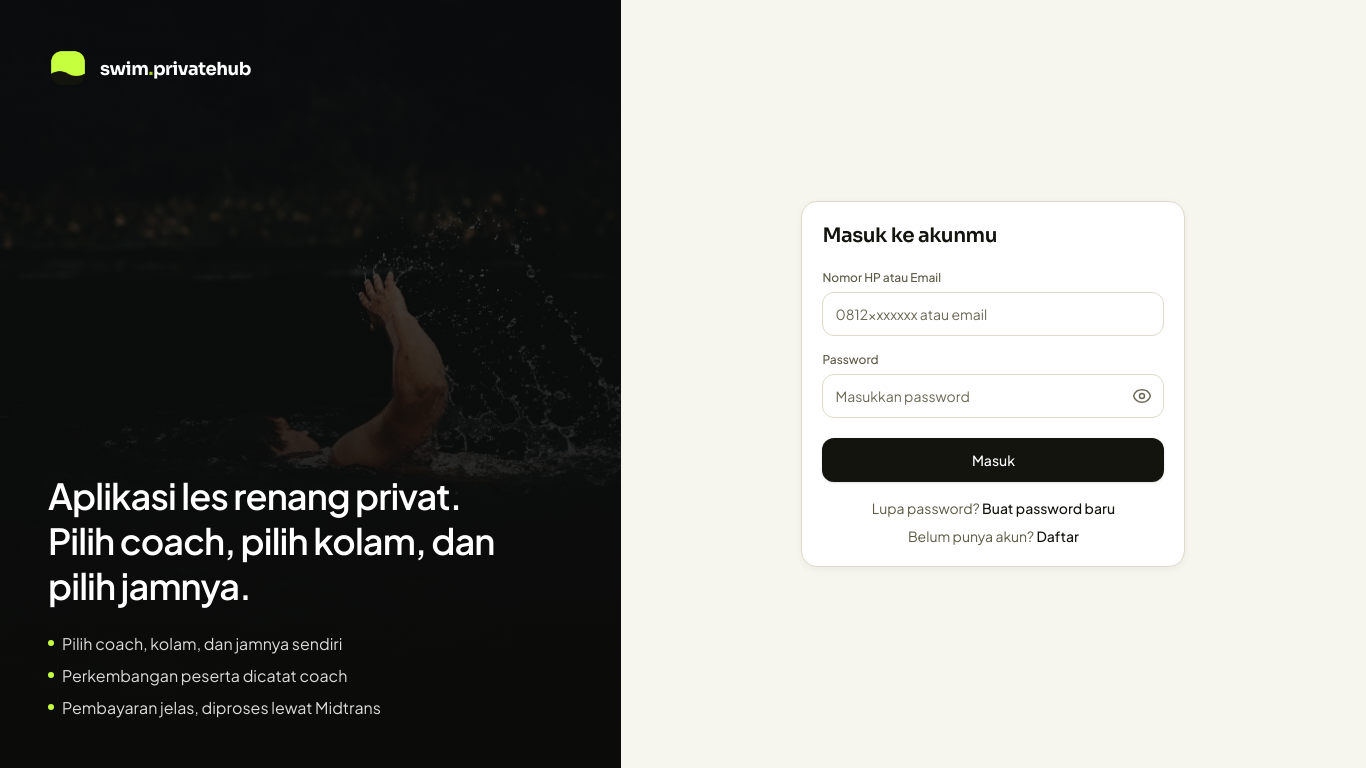
Scenario: LoginForm 2FA › tanpa 2FA: salah password -> pesan umum, kolom kode tidak muncul
Type "081200000001" into the field labelled "Nomor HP atau Email" at (993, 314), box [822,292,1164,336]
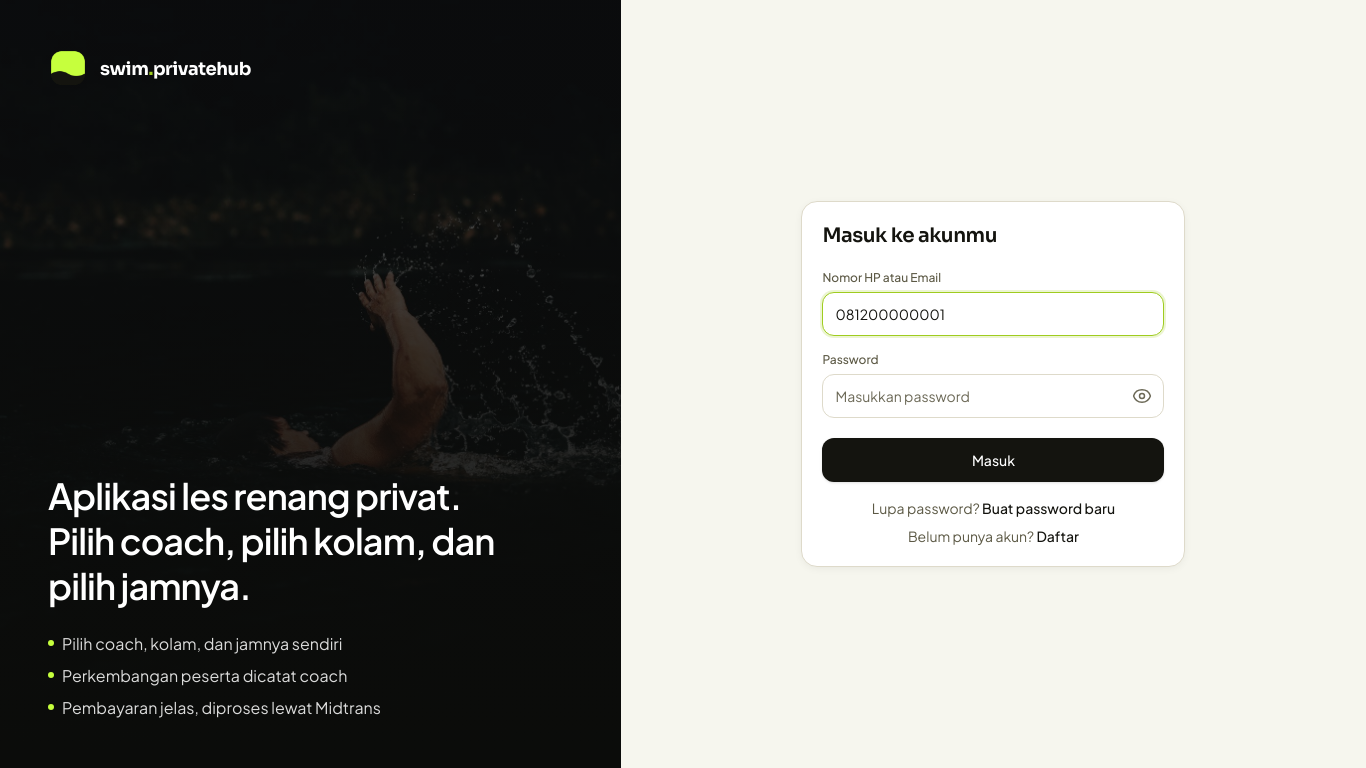
Type "salah" into the password field labelled "Password" at (993, 396), box [822,374,1164,418]
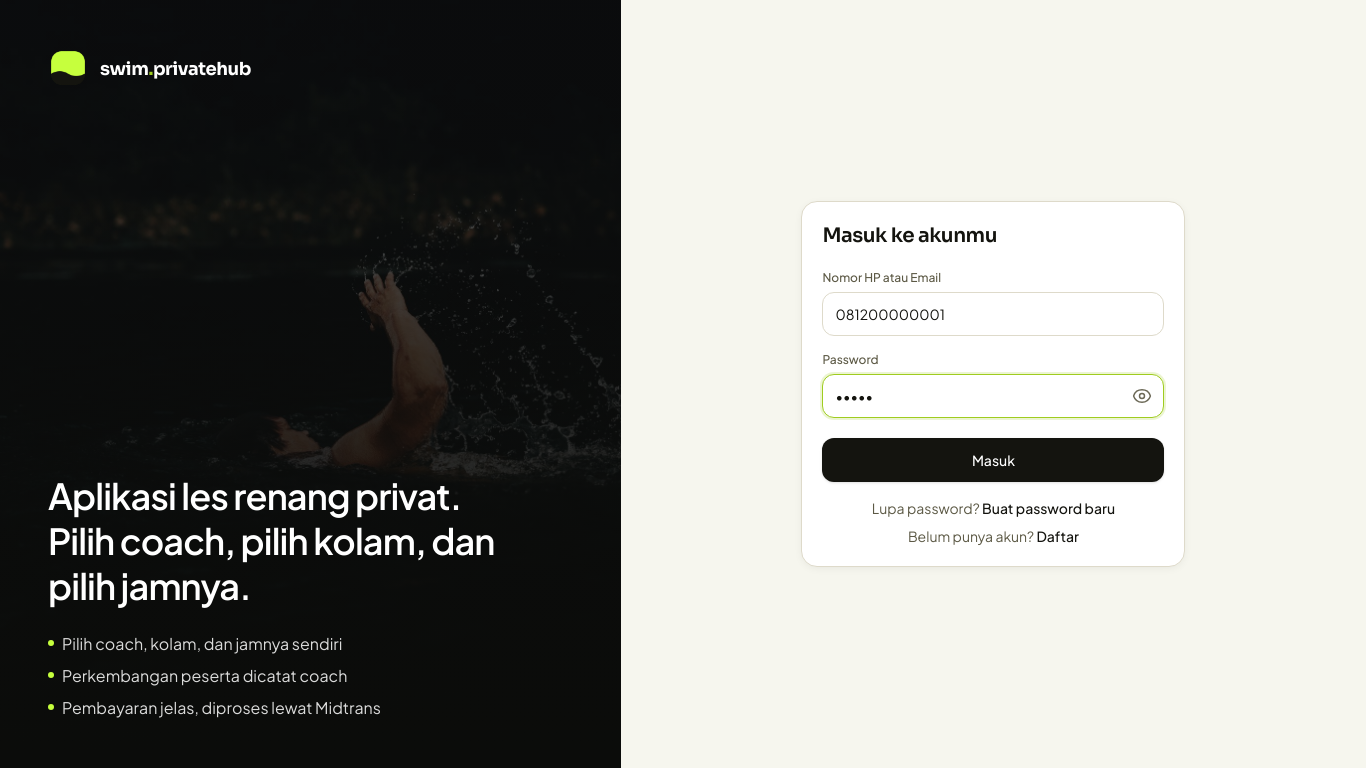
Click the button "Masuk" at (993, 460), box [822,438,1164,482]
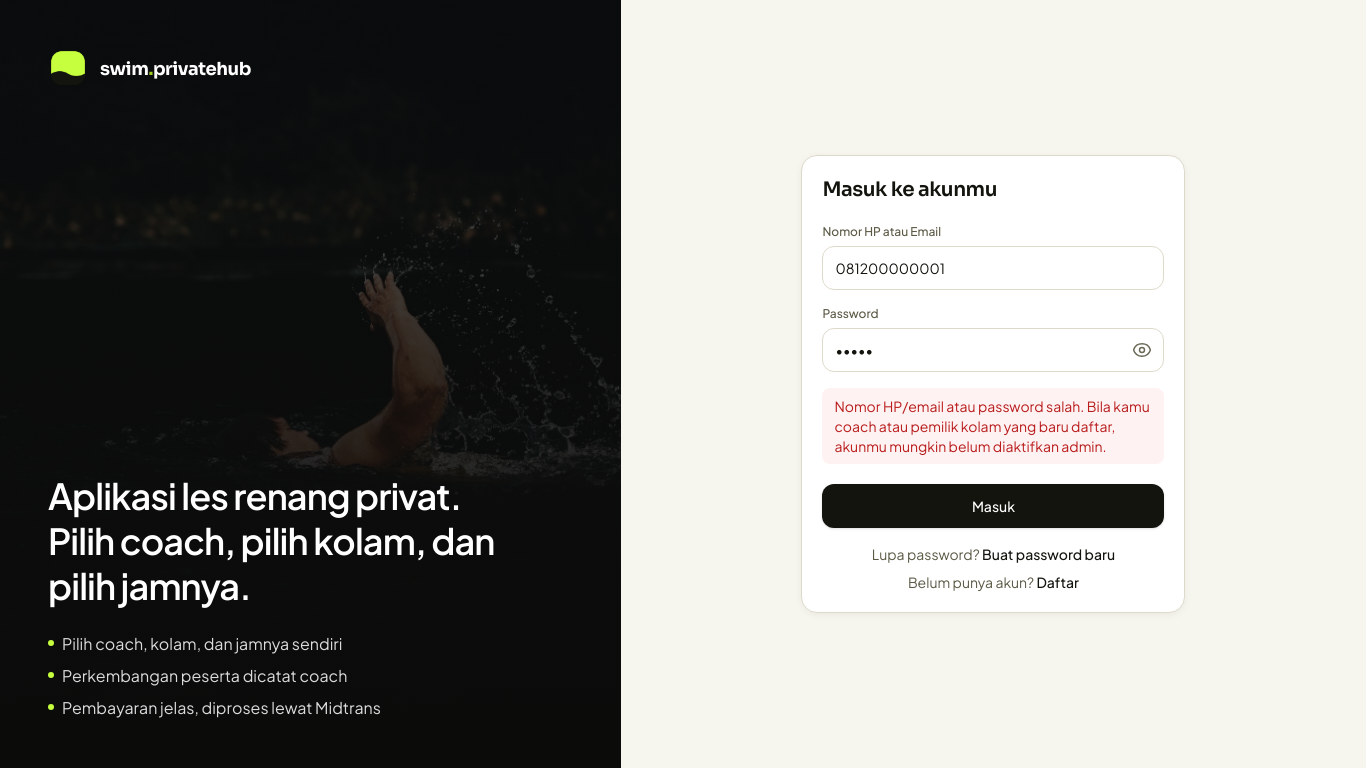
Result: the message shows "password salah" at [834,397,1150,455]
